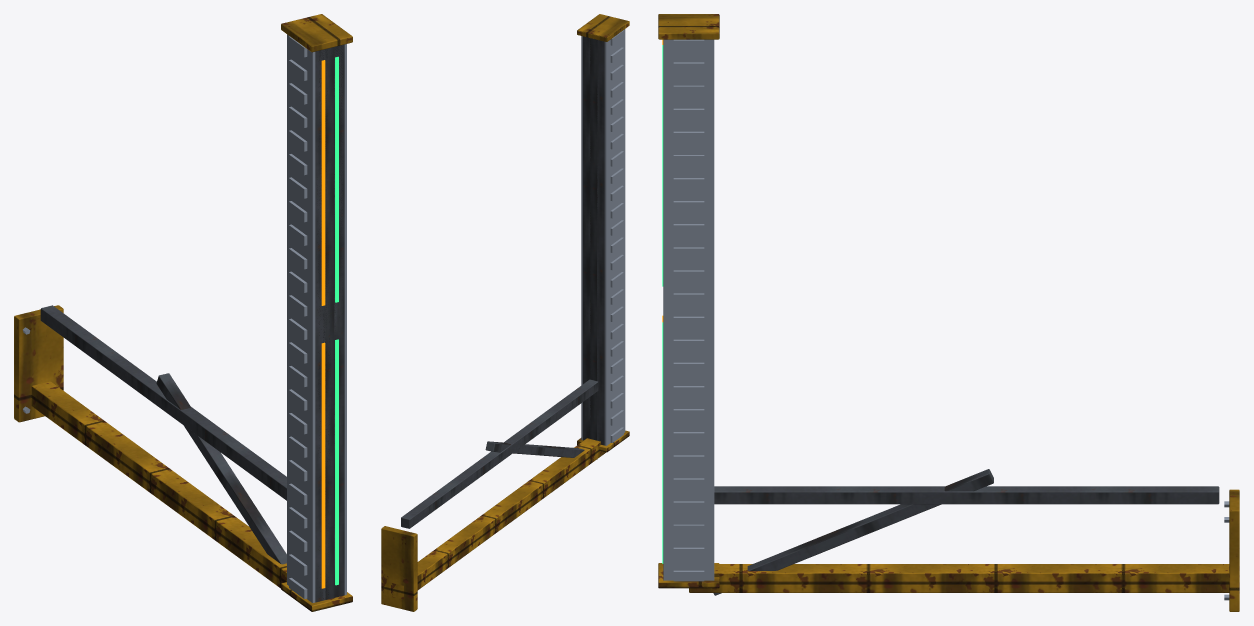
File: end2-lift-rail.glb
3 renders of one model, left to right at view 1: azimuth 30°, elevation 25°; view 2: azimuth 150°, elevation 25°; view 3: azimuth 270°, elevation 25°, orthographic. The views are drawn at different scales.
Parts seen in each view (by area): view 1: flange_lip, br_arm_a, br_arm_b, spine, flange, flange.001, br_plate, br_diag, joint_plate.001, flange_lip.001, gold_strip, gold_strip.001 (+3 smaller); view 2: flange_lip, br_arm_a, br_arm_b, flange, flange.001, spine, br_plate, joint_plate.001, br_diag, flange_lip.001; view 3: flange_lip.001, br_arm_a, br_arm_b, br_diag, joint_plate.001, br_plate.
Part boxes in pixels (<box>): flange_lip: <box>287,34,315,602</box>; br_arm_a: <box>31,381,286,588</box>; br_arm_b: <box>40,305,286,500</box>; spine: <box>324,47,335,599</box>; flange: <box>315,49,325,602</box>; flange.001: <box>334,44,344,597</box>; br_plate: <box>14,305,63,422</box>; br_diag: <box>156,373,286,564</box>; joint_plate.001: <box>281,14,352,52</box>; flange_lip.001: <box>344,44,346,595</box>; gold_strip: <box>321,342,325,588</box>; gold_strip.001: <box>321,60,325,305</box>; flange_lip: <box>604,29,625,445</box>; br_arm_a: <box>391,438,605,599</box>; br_arm_b: <box>401,379,598,528</box>; flange: <box>597,40,604,445</box>; flange.001: <box>583,36,590,440</box>; spine: <box>590,38,597,440</box>; br_plate: <box>381,526,417,611</box>; joint_plate.001: <box>577,14,629,41</box>; br_diag: <box>485,441,597,459</box>; flange_lip.001: <box>581,36,582,440</box>; flange_lip.001: <box>663,39,714,580</box>; br_arm_a: <box>689,564,1229,592</box>; br_arm_b: <box>714,486,1219,504</box>; br_diag: <box>713,469,993,595</box>; joint_plate.001: <box>658,14,719,39</box>; br_plate: <box>1229,489,1239,611</box>.
Size of the model in its own units: 0.5 by 6.25 by 5.7.
Materials: 6 (3 with a texture image).
